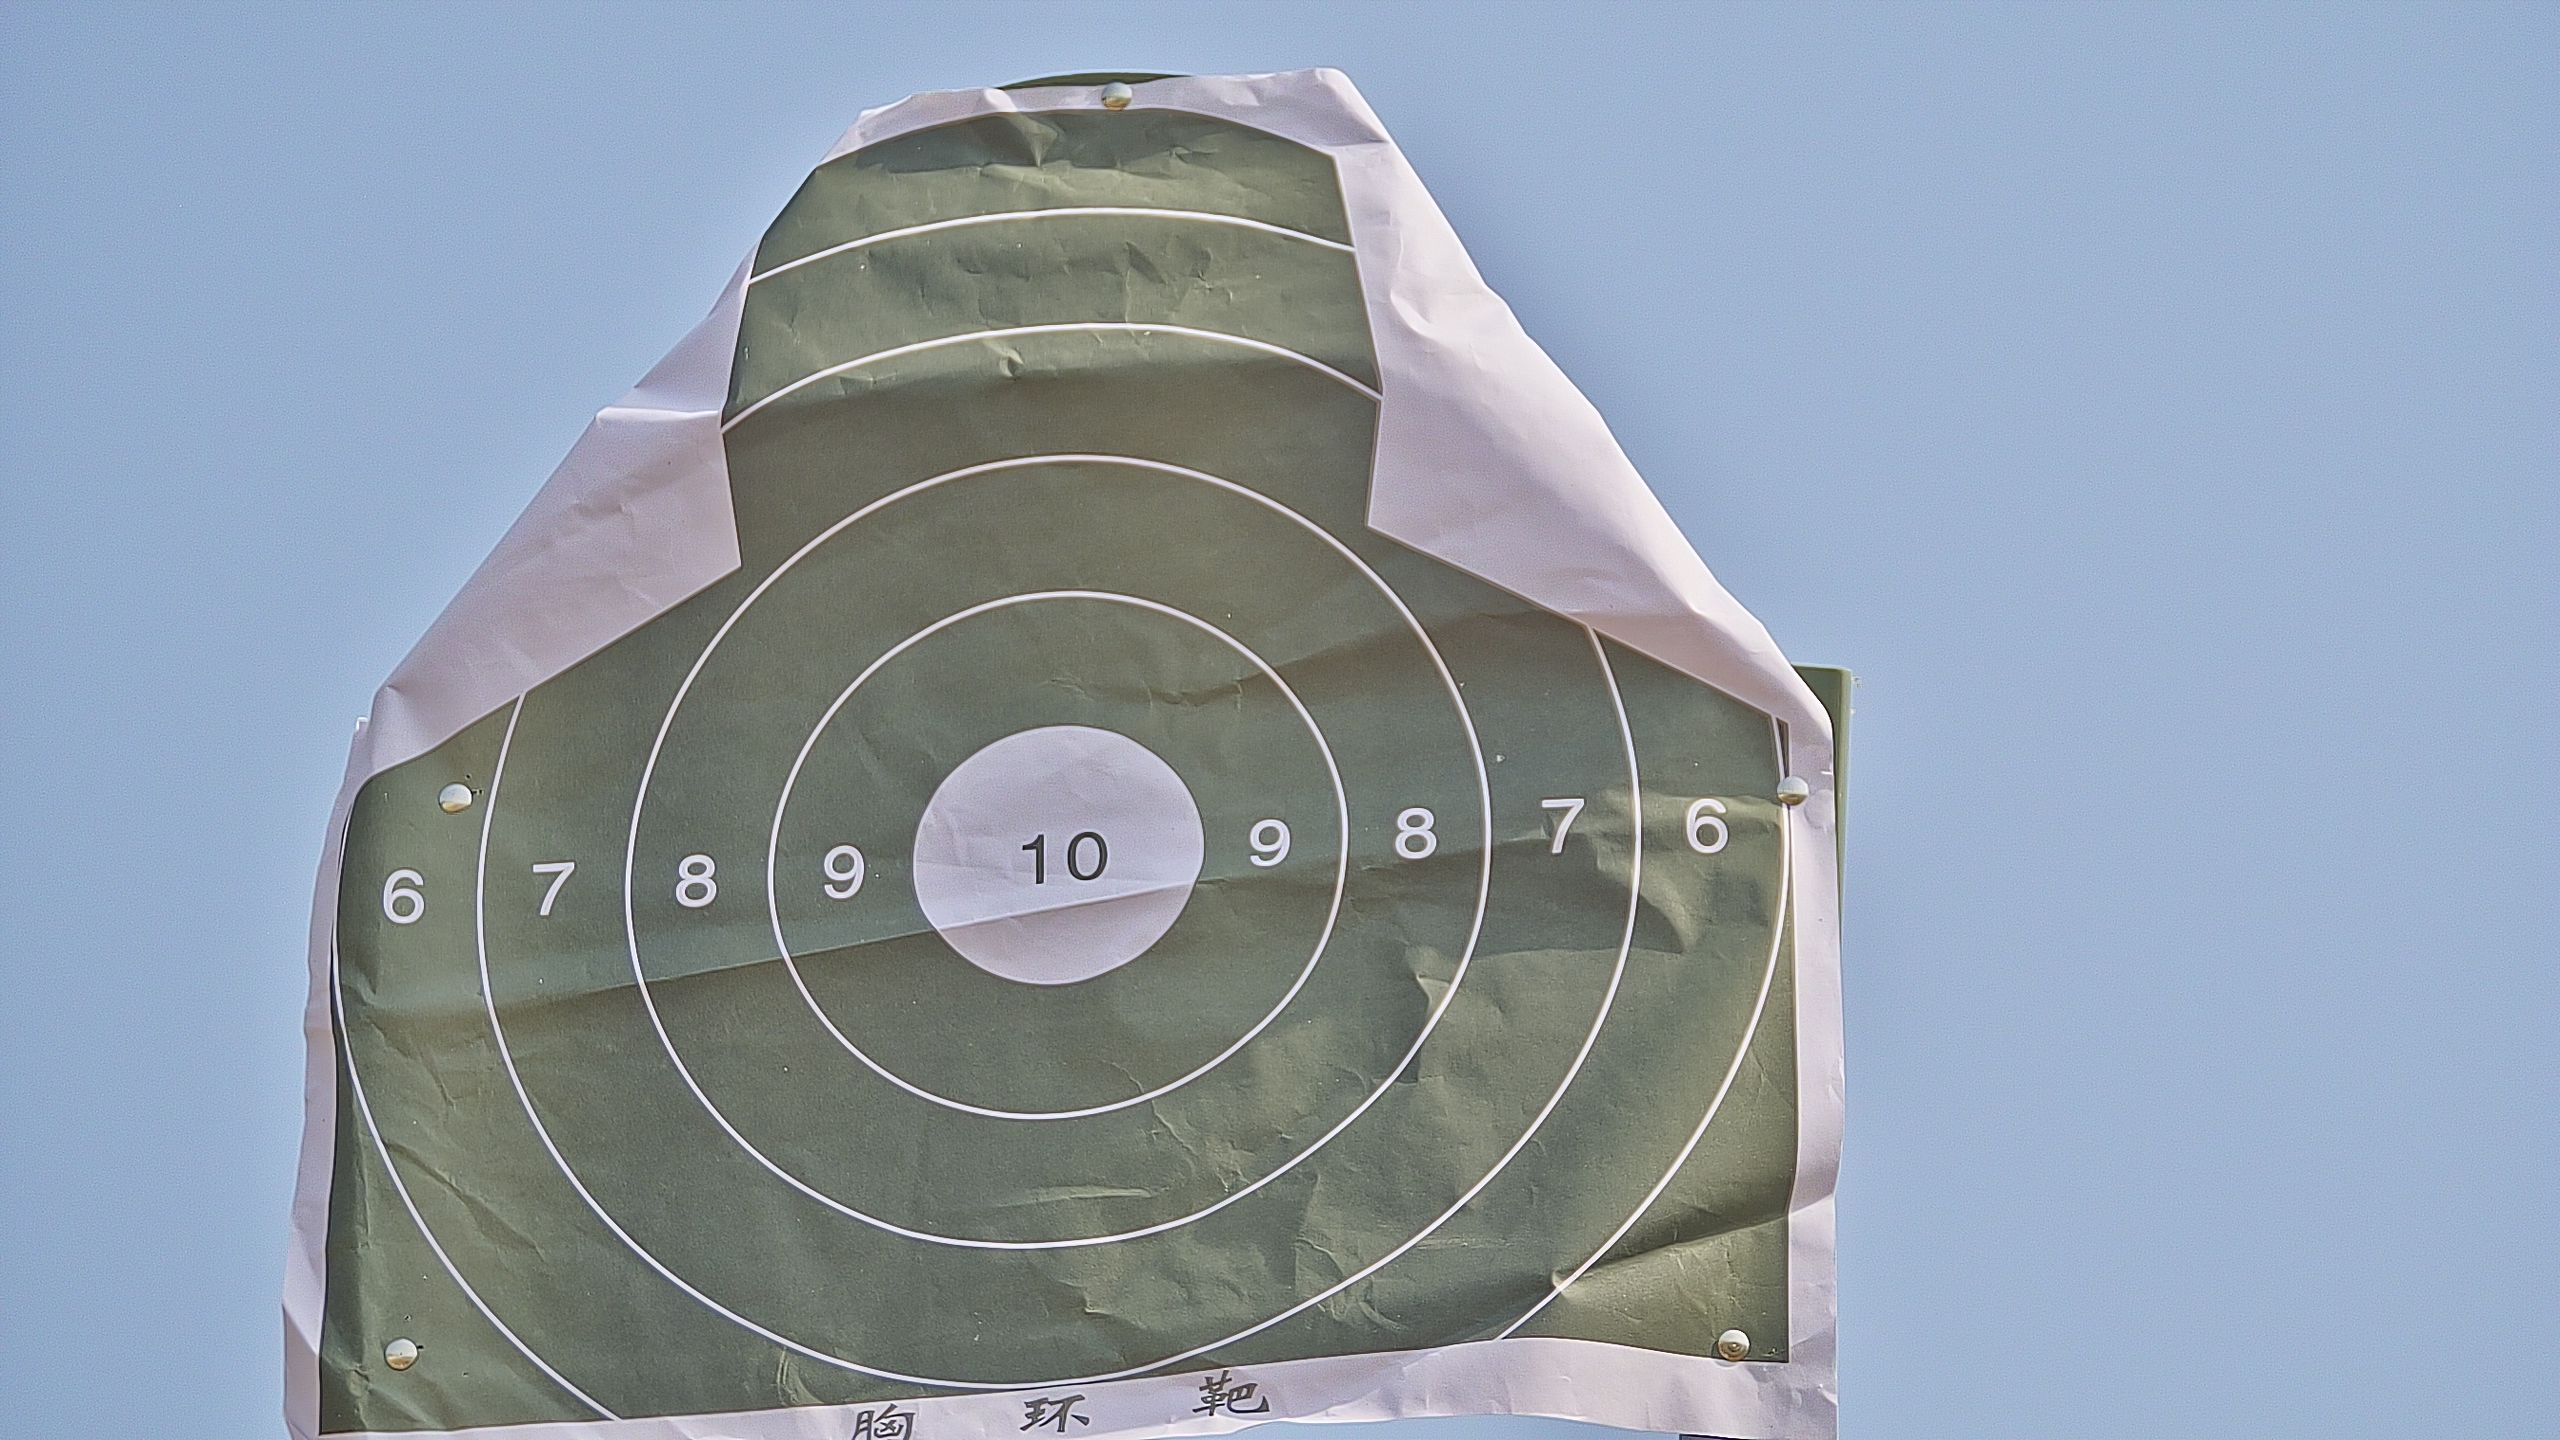kernel: (1053, 855, 1057, 858)
target: (322, 113, 1799, 1440)
ten: (907, 723, 1203, 988)
